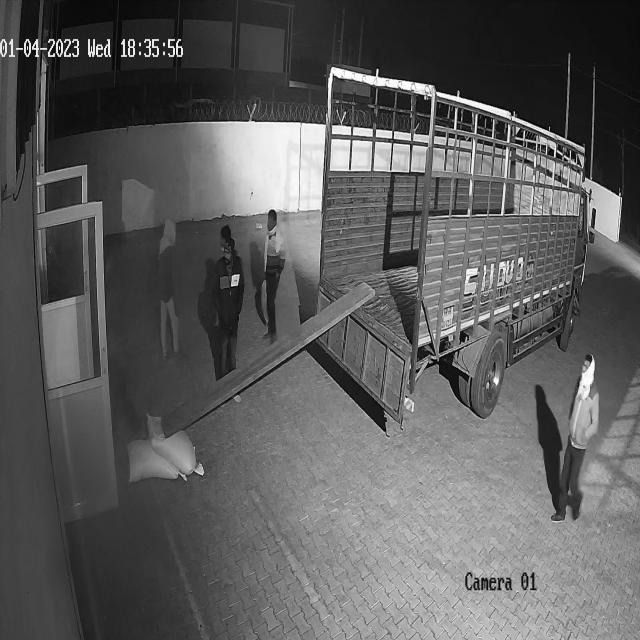sack: (145, 412, 205, 476), (124, 438, 187, 483)
